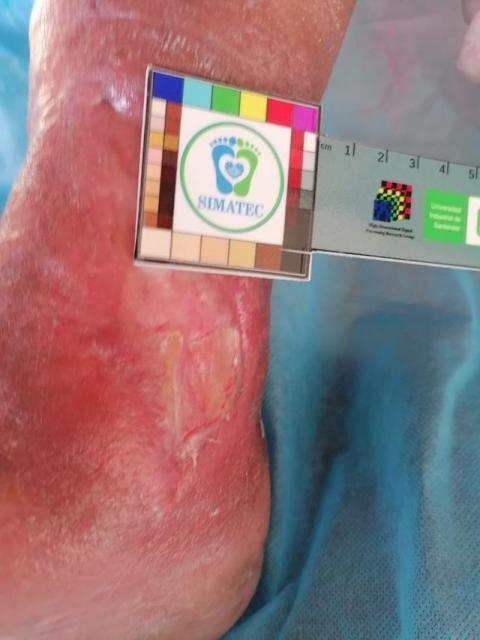wound: (161, 306, 246, 472)
